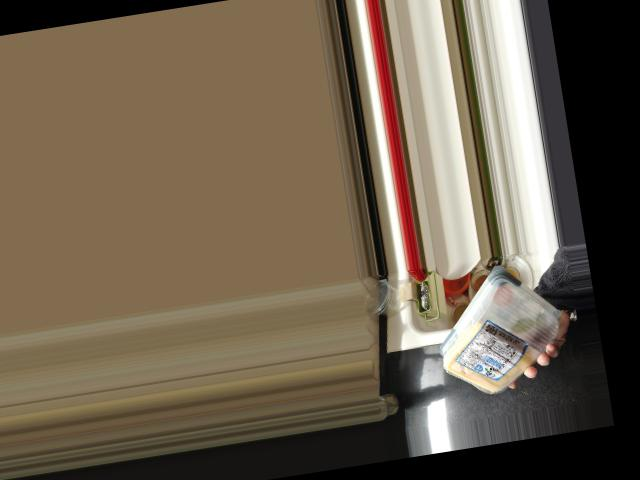cheese: (430, 275, 569, 393)
